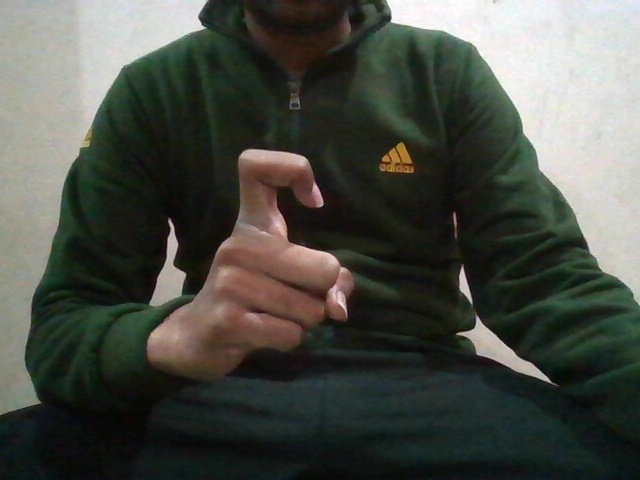P: (218, 146, 355, 363)
